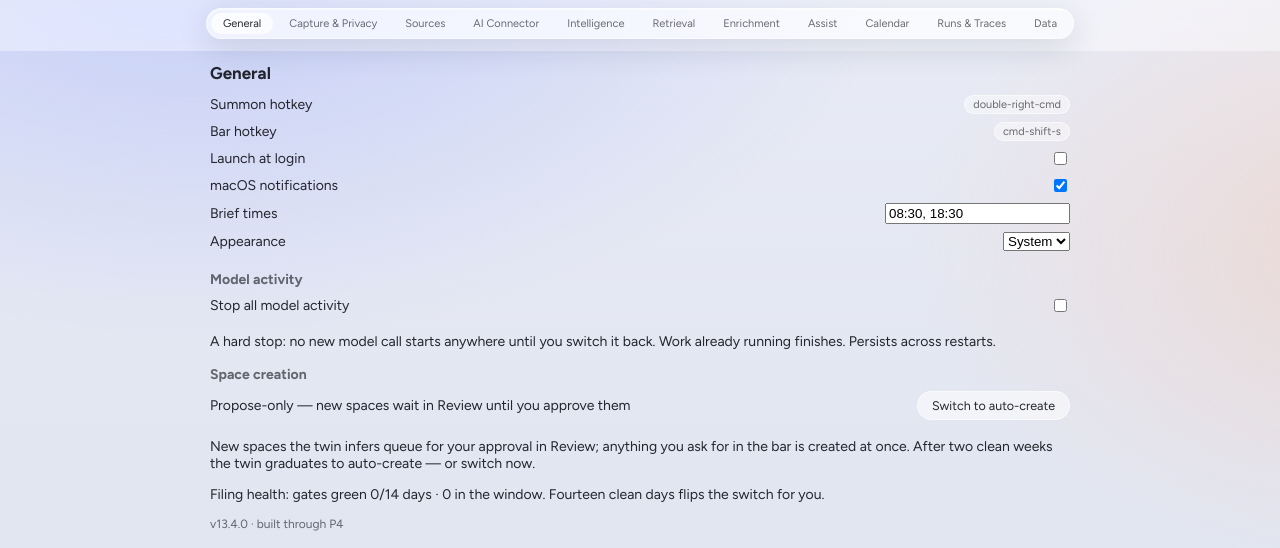
Test: Settings subtab row › shows only the selected subtab's panel, and moves the active state
The width and height of the screenshot is (1280, 548).
Check: the heading "General" is shown, box [210,63,271,83]
Click the button "Runs & Traces": (972, 24) [925,13,1018,34]
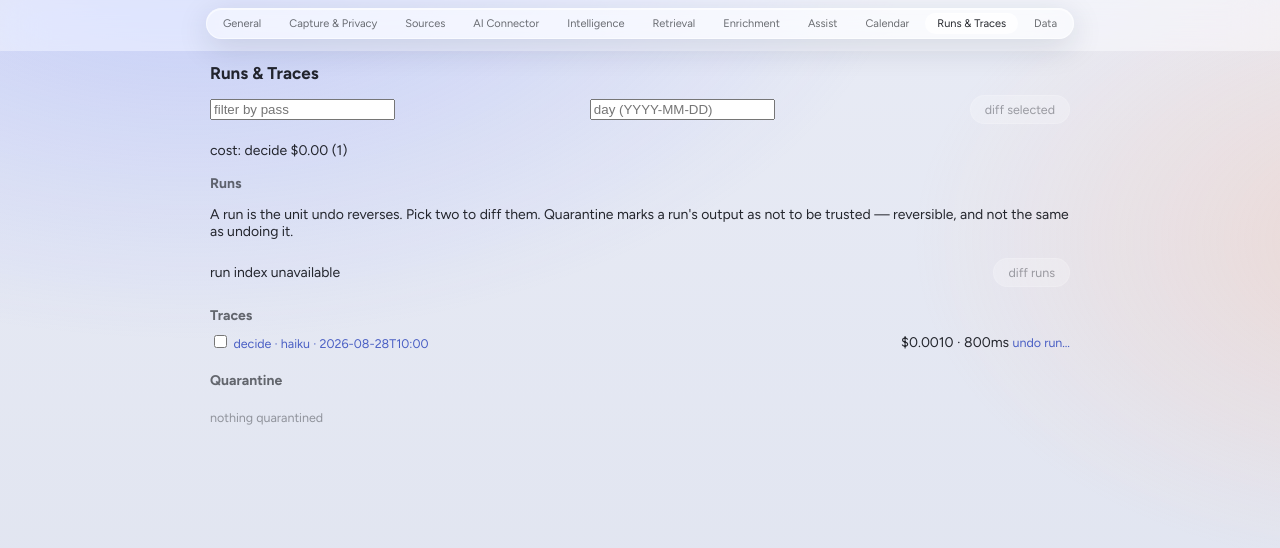
Check: the heading "Runs & Traces" is shown, box [210,63,319,83]
